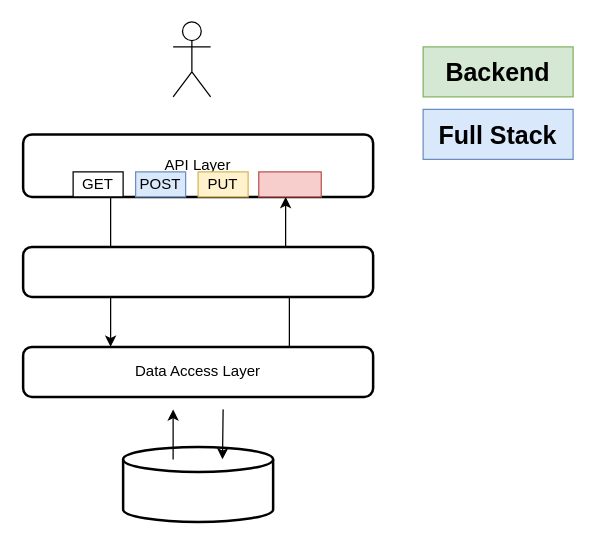
Image size: 595x545. Some labels were removed from this diagram. The shapes that lost their labels are listed below. From the top down, each one's centre as x and y in pixels, then its label:
point (191, 59): Client
point (289, 184): DELETE
point (197, 271): Service Layer
